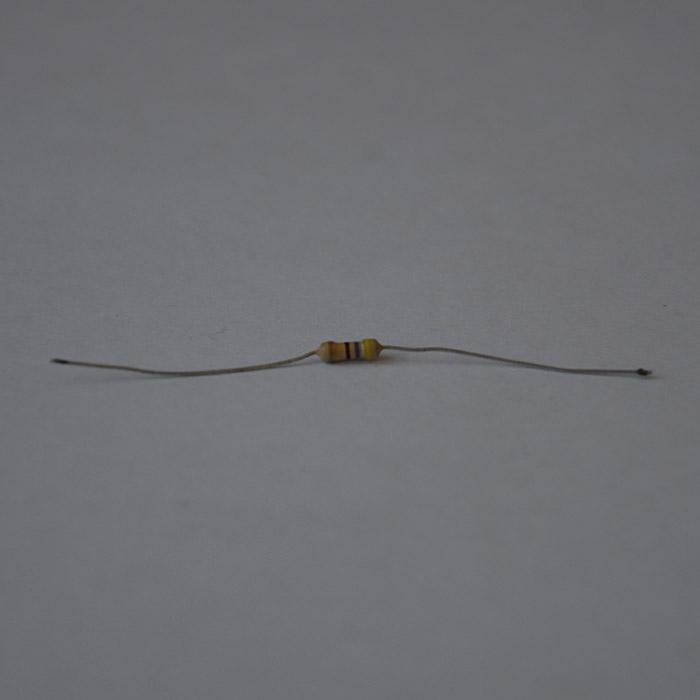resistor: (337, 314, 362, 382)
